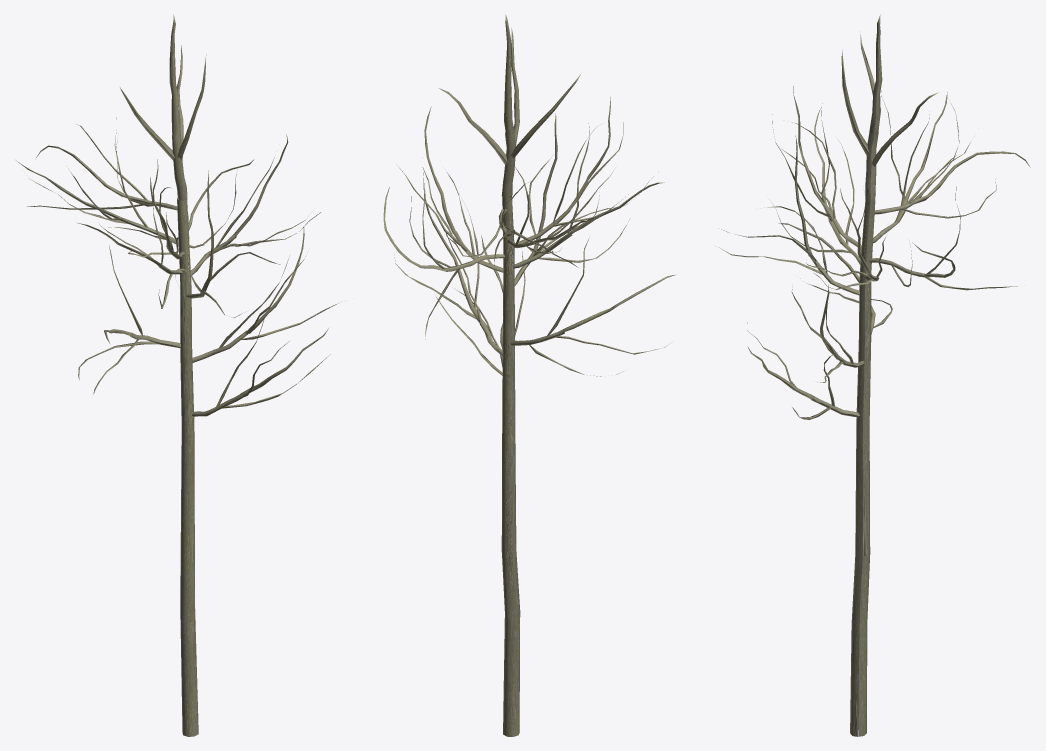
File: muerto_alamo.glb
3 renders of one model, left to right at view 1: azimuth 30°, elevation 25°; view 2: azimuth 150°, elevation 25°; view 3: azimuth 270°, elevation 25°, orthographic. The views are drawn at different scales.
Parts seen in each view (by area): view 1: muerto_alamo_ramas; view 2: muerto_alamo_ramas; view 3: muerto_alamo_ramas.
Boxes of the visible parts, x1,y1,x2,y2 form: muerto_alamo_ramas: (16,14,338,736); muerto_alamo_ramas: (383,14,674,736); muerto_alamo_ramas: (716,14,1030,736).
Size of the model in its own units: 3.61 by 9 by 3.7.
1 material, 1 textured.
